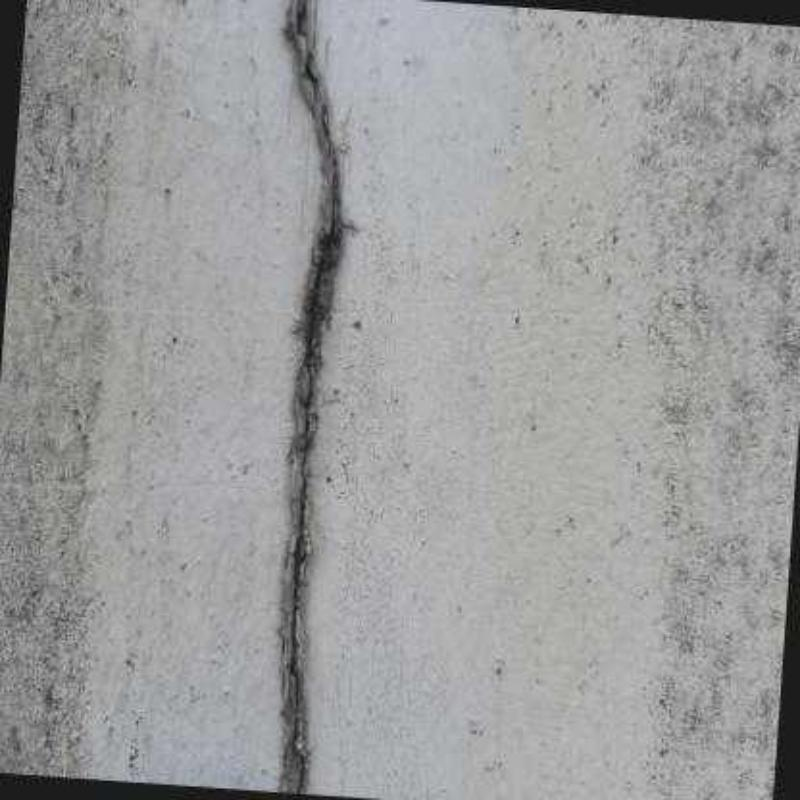pothole: (277, 0, 348, 795)
